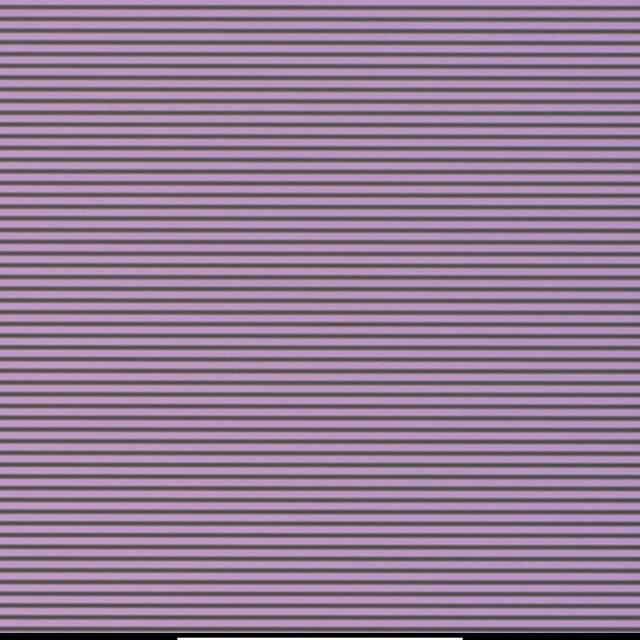03_intrusion: (334, 330, 344, 341)
